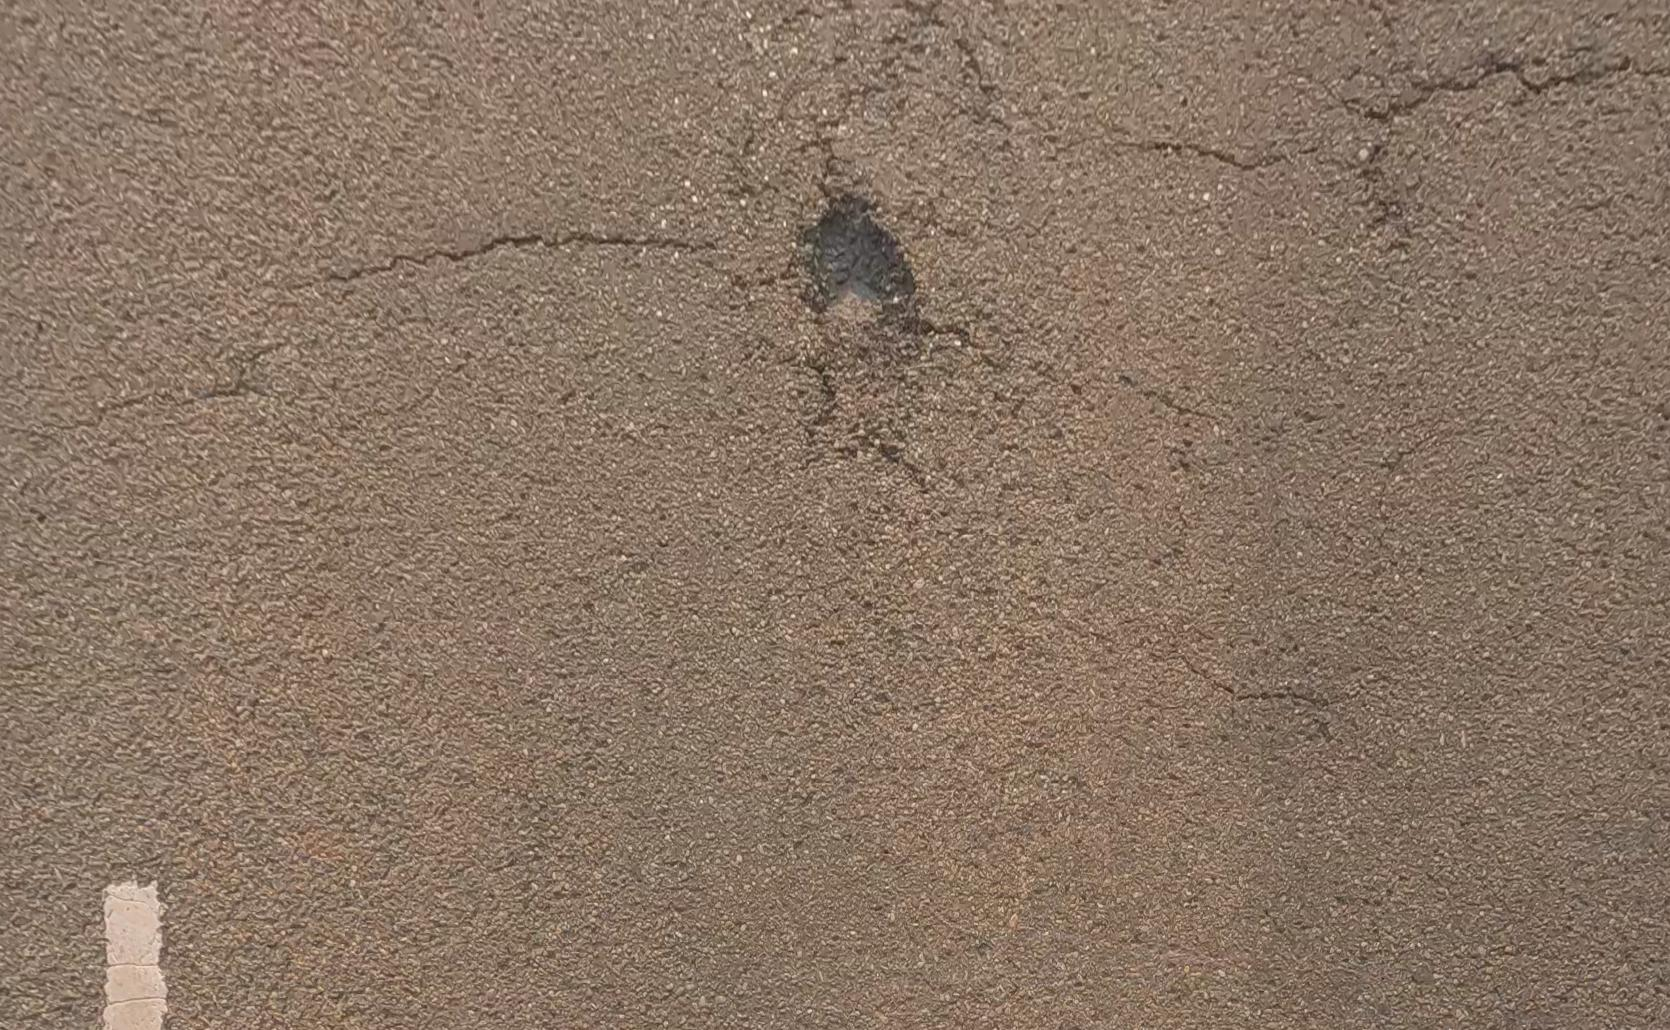pothole: (797, 192, 921, 327)
